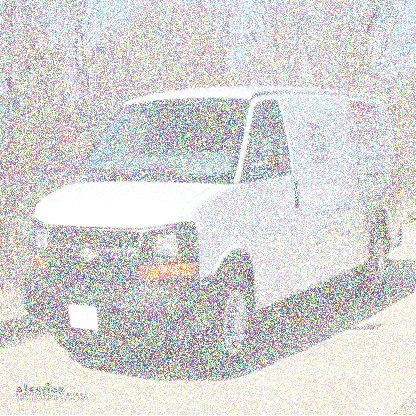Vehicle: (19, 82, 406, 382)
